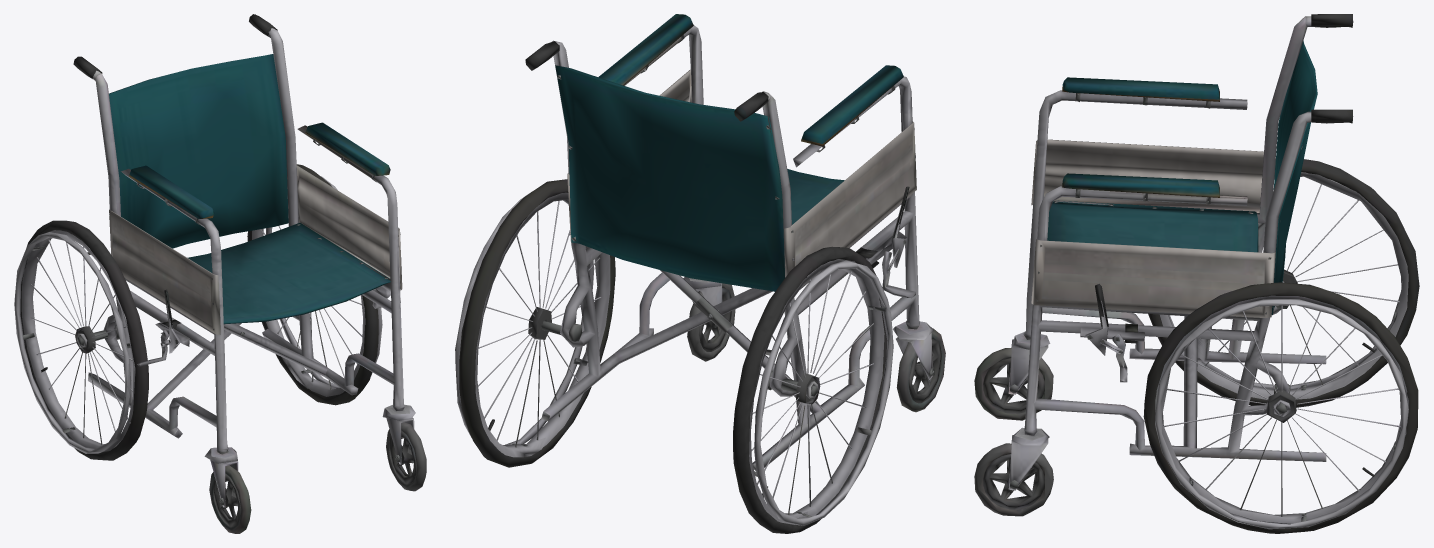
File: chair.glb
3 renders of one model, left to right at view 1: azimuth 30°, elevation 25°; view 2: azimuth 150°, elevation 25°; view 3: azimuth 270°, elevation 25°, orthographic. The views are drawn at different scales.
Visible parts, largest first — view 1: wheelchair_01; view 2: wheelchair_01; view 3: wheelchair_01.
Boxes of the visible parts, x1,y1,x2,y2 form: wheelchair_01: [14, 14, 426, 533]; wheelchair_01: [455, 14, 945, 533]; wheelchair_01: [974, 14, 1419, 533].
Size of the model in its own units: 0.8234 by 1.1 by 1.09.
1 material, 1 textured.
